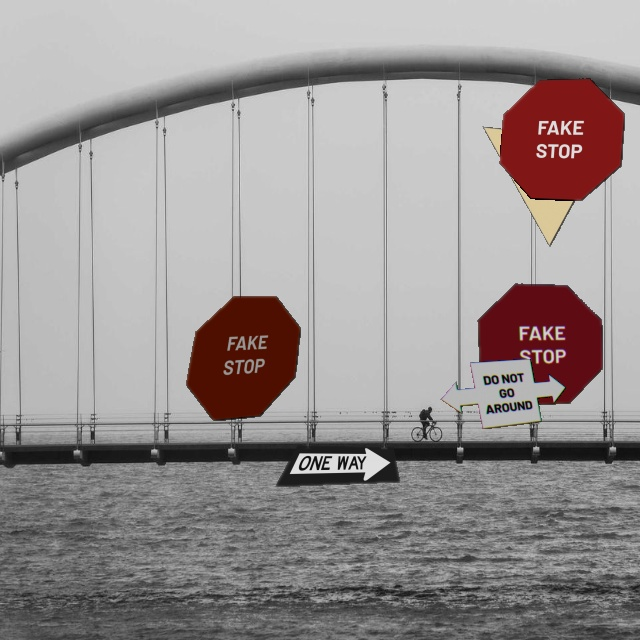DO_NOT_GO_AROUND: (440, 358, 566, 429)
FAKE_STOP: (477, 283, 603, 406), (499, 78, 625, 201), (185, 295, 301, 421)
NOT_YIELD: (482, 126, 608, 247)
ONE_WAY_ right: (274, 445, 400, 487)
